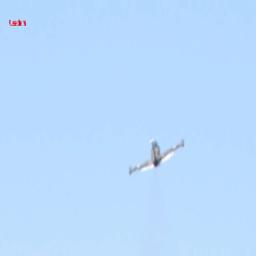Airplane: (127, 138, 186, 175)
